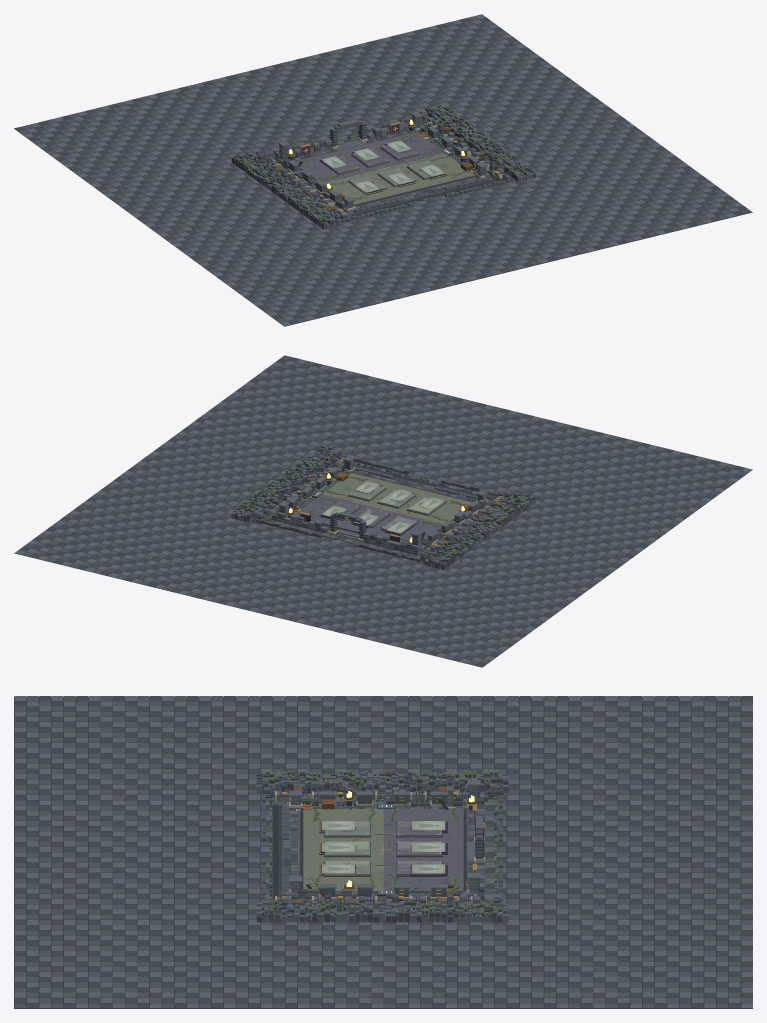
File: battle.glb
3 renders of one model, top to bottom at view 1: azimuth 30°, elevation 25°; view 2: azimuth 150°, elevation 25°; view 3: azimuth 270°, elevation 25°, orthographic. The views are drawn at different scales.
Visible parts, largest first — view 1: 24_Continuous_Outer_Floor_rock3, 24_Continuous_Outer_Floor_rock2, 24_Continuous_Outer_Floor_rock, 24_Outer_Floor_Mortar, Decorated_Halves_With_Six_Grounded_Stone_Bases, 31_Outer_Retaining_Walls, 27_Outer_Courtyard_Collapsed_Masonry, 32_Outer_Wall_Climbing_Greenery, 11_Broken_Perimeter_Walls, 10_Perimeter_Cobblestones, 19_Carved_Wall_Panels, 01_Continuous_Stone_Floor (+1 smaller); view 2: 24_Continuous_Outer_Floor_rock, 24_Continuous_Outer_Floor_rock3, 24_Continuous_Outer_Floor_rock2, 24_Outer_Floor_Mortar, Decorated_Halves_With_Six_Grounded_Stone_Bases, 31_Outer_Retaining_Walls, 27_Outer_Courtyard_Collapsed_Masonry, 11_Broken_Perimeter_Walls, 32_Outer_Wall_Climbing_Greenery, 19_Carved_Wall_Panels, 10_Perimeter_Cobblestones, 01_Continuous_Stone_Floor (+1 smaller); view 3: 24_Continuous_Outer_Floor_rock3, 24_Continuous_Outer_Floor_rock2, 24_Continuous_Outer_Floor_rock, 24_Outer_Floor_Mortar, Decorated_Halves_With_Six_Grounded_Stone_Bases, 31_Outer_Retaining_Walls, 27_Outer_Courtyard_Collapsed_Masonry, 32_Outer_Wall_Climbing_Greenery, 11_Broken_Perimeter_Walls, 19_Carved_Wall_Panels, 10_Perimeter_Cobblestones, 01_Continuous_Stone_Floor (+2 smaller).
Part boxes in pixels (bbox=[...]): 24_Continuous_Outer_Floor_rock3: bbox=[23, 14, 742, 326]; 24_Continuous_Outer_Floor_rock2: bbox=[19, 16, 751, 322]; 24_Continuous_Outer_Floor_rock: bbox=[14, 17, 747, 324]; 24_Outer_Floor_Mortar: bbox=[14, 16, 752, 326]; Decorated_Halves_With_Six_Grounded_Stone_Bases: bbox=[295, 132, 474, 204]; 31_Outer_Retaining_Walls: bbox=[231, 105, 535, 229]; 27_Outer_Courtyard_Collapsed_Masonry: bbox=[256, 110, 514, 222]; 32_Outer_Wall_Climbing_Greenery: bbox=[234, 104, 534, 223]; 11_Broken_Perimeter_Walls: bbox=[275, 119, 490, 213]; 10_Perimeter_Cobblestones: bbox=[293, 130, 490, 213]; 19_Carved_Wall_Panels: bbox=[287, 126, 479, 203]; 01_Continuous_Stone_Floor: bbox=[275, 131, 492, 215]; 24_Continuous_Outer_Floor_rock: bbox=[19, 357, 744, 667]; 24_Continuous_Outer_Floor_rock3: bbox=[15, 359, 752, 663]; 24_Continuous_Outer_Floor_rock2: bbox=[22, 355, 747, 665]; 24_Outer_Floor_Mortar: bbox=[14, 357, 752, 667]; Decorated_Halves_With_Six_Grounded_Stone_Bases: bbox=[295, 473, 470, 543]; 31_Outer_Retaining_Walls: bbox=[231, 444, 535, 569]; 27_Outer_Courtyard_Collapsed_Masonry: bbox=[251, 453, 511, 563]; 11_Broken_Perimeter_Walls: bbox=[272, 464, 490, 554]; 32_Outer_Wall_Climbing_Greenery: bbox=[235, 445, 532, 563]; 19_Carved_Wall_Panels: bbox=[287, 467, 479, 544]; 10_Perimeter_Cobblestones: bbox=[297, 470, 477, 543]; 01_Continuous_Stone_Floor: bbox=[274, 472, 492, 556]; 24_Continuous_Outer_Floor_rock3: bbox=[14, 696, 752, 1007]; 24_Continuous_Outer_Floor_rock2: bbox=[14, 696, 752, 1007]; 24_Continuous_Outer_Floor_rock: bbox=[14, 696, 752, 1007]; 24_Outer_Floor_Mortar: bbox=[14, 696, 752, 1008]; Decorated_Halves_With_Six_Grounded_Stone_Bases: bbox=[303, 809, 463, 892]; 31_Outer_Retaining_Walls: bbox=[256, 772, 508, 922]; 27_Outer_Courtyard_Collapsed_Masonry: bbox=[261, 785, 503, 909]; 32_Outer_Wall_Climbing_Greenery: bbox=[261, 770, 505, 916]; 11_Broken_Perimeter_Walls: bbox=[282, 793, 484, 901]; 19_Carved_Wall_Panels: bbox=[319, 791, 447, 899]; 10_Perimeter_Cobblestones: bbox=[283, 804, 476, 898]; 01_Continuous_Stone_Floor: bbox=[278, 803, 487, 901].
Size of the model in its own units: 48 by 2.52 by 48.
28 materials, 1 textured.
